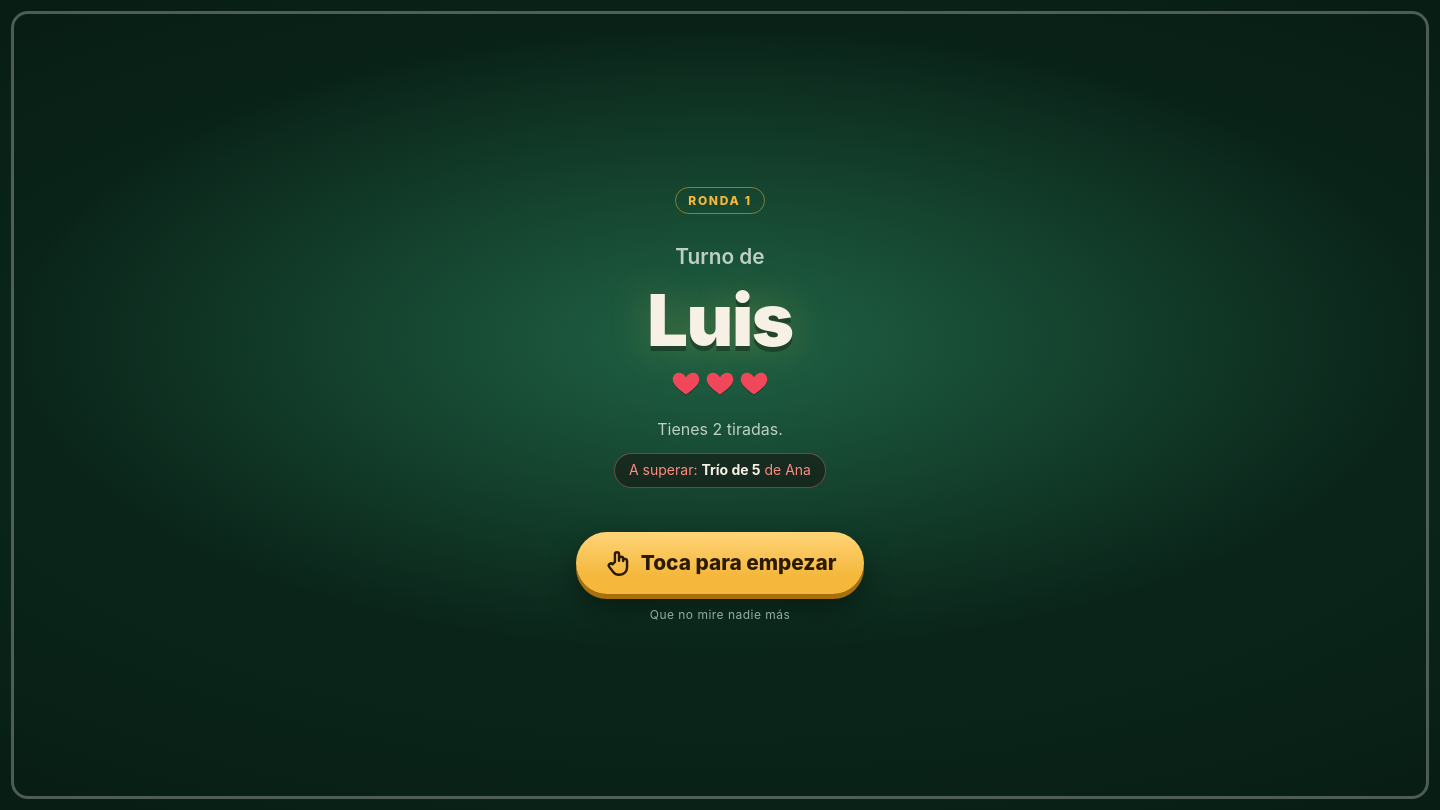
Test: sin tiradas restantes solo queda plantarse
Click the button at (720, 405), box [0,0,1439,809]
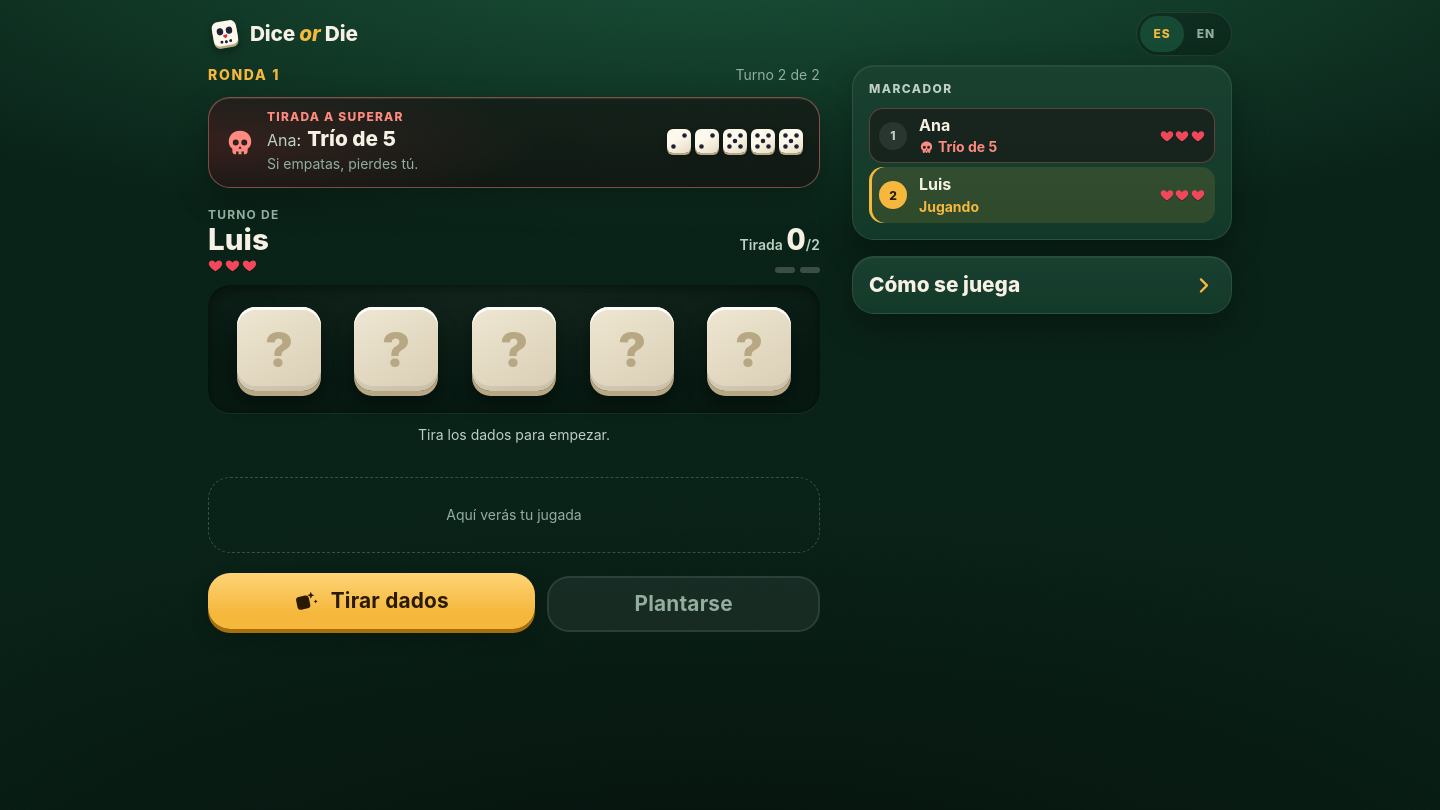
Click the button "Tirar dados" at (372, 601), box [208,573,535,629]
Wait 500 ms
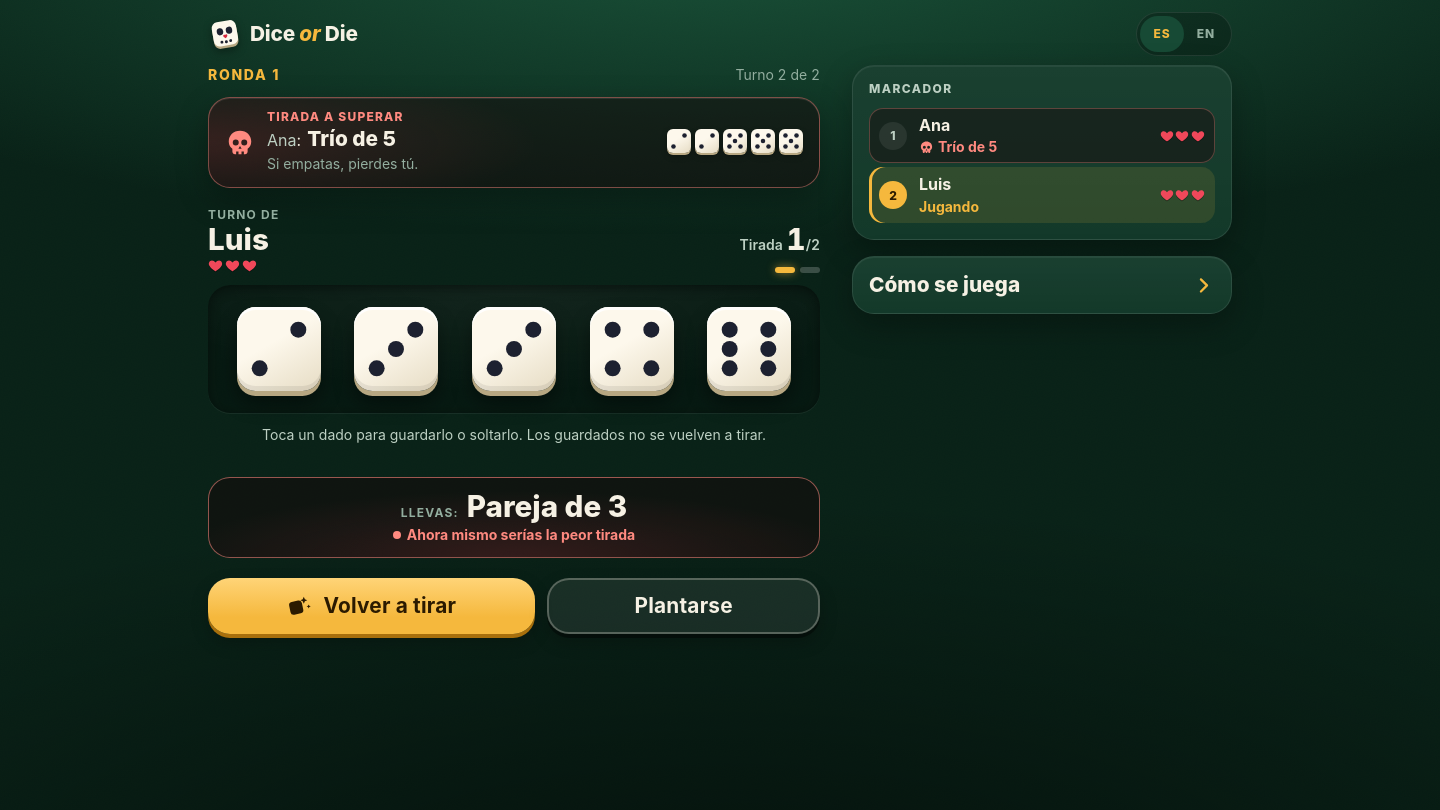
Click the button "Volver a tirar" at (372, 606), box [208,578,535,634]
Wait 500 ms
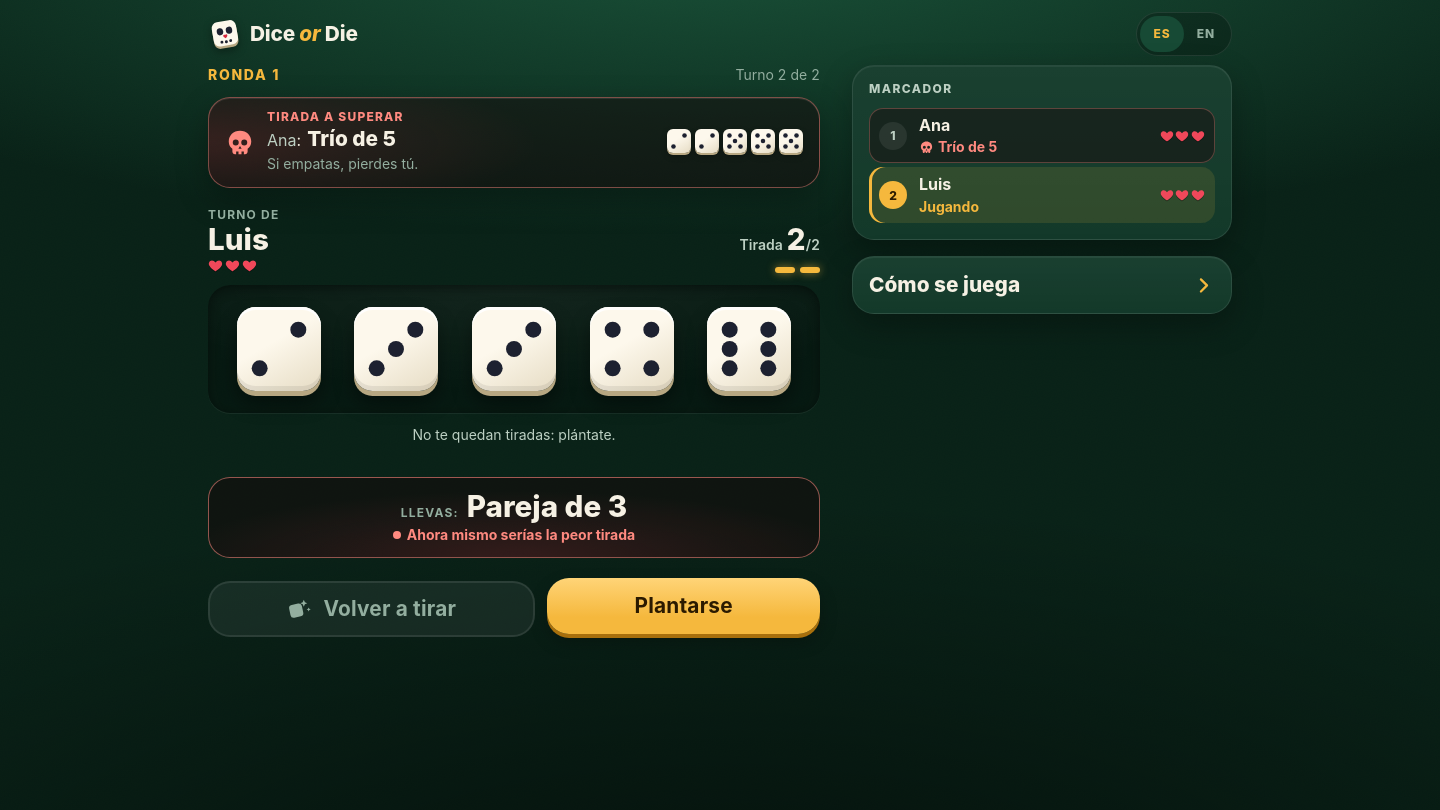
expect the button named "Dado: 2" is disabled: met, box [237,306,321,390]
expect the element showing "Tirada 2/2" is shown: met, box [740,218,820,260]
expect the button "Volver a tirar" is disabled: met, box [208,581,535,637]
